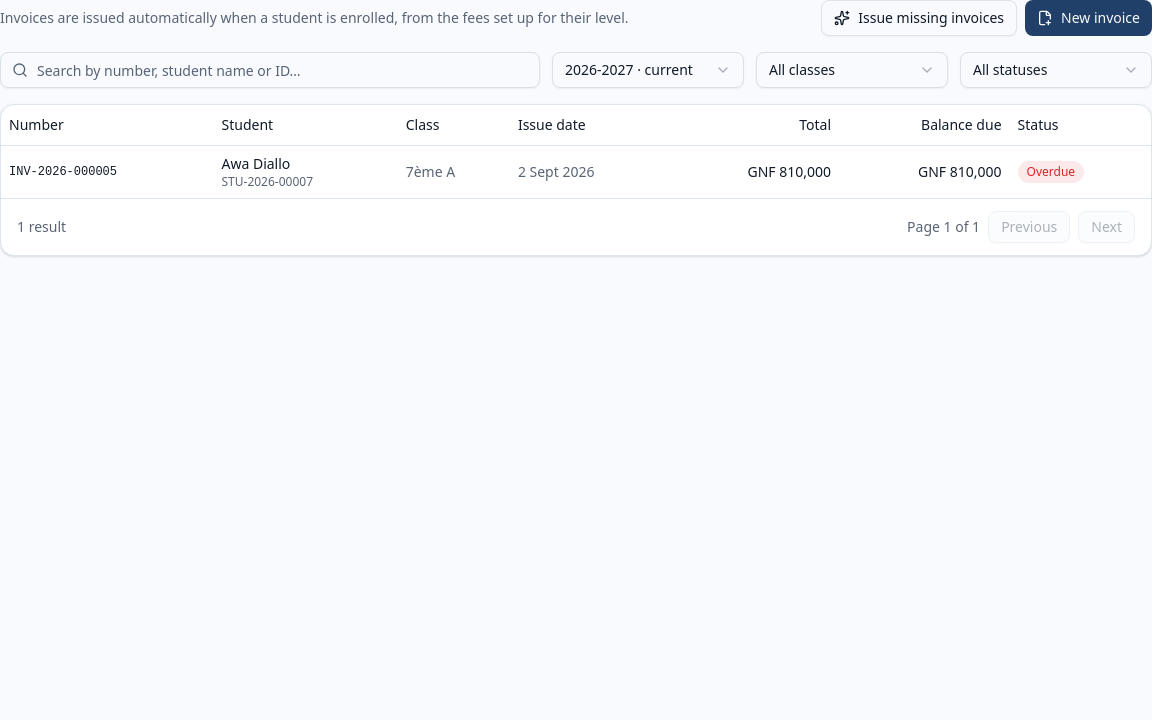
Test: InvoicesPage › issues the missing invoices of the year
Click the button "Issue missing invoices" at (919, 18), box 821,0 -> 1017,36
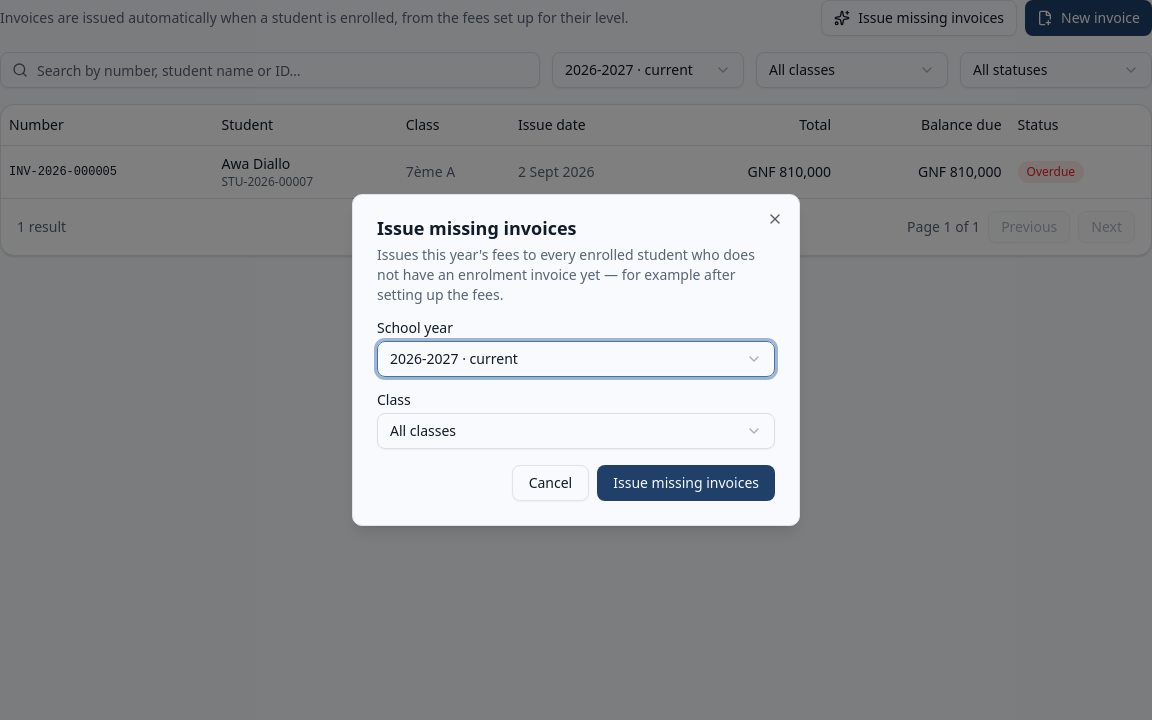
Result: the button "Issue missing invoices" is enabled
Click the button "Issue missing invoices" at (686, 483), box 597,465 -> 775,501
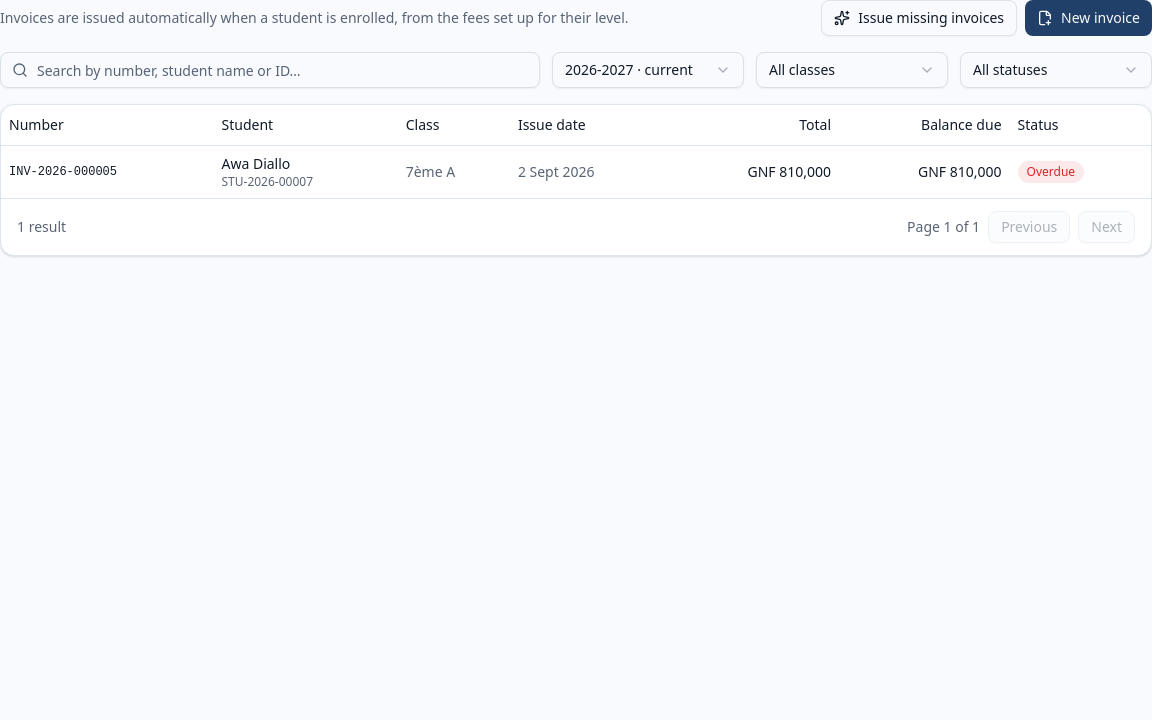
Result: the dialog is gone
